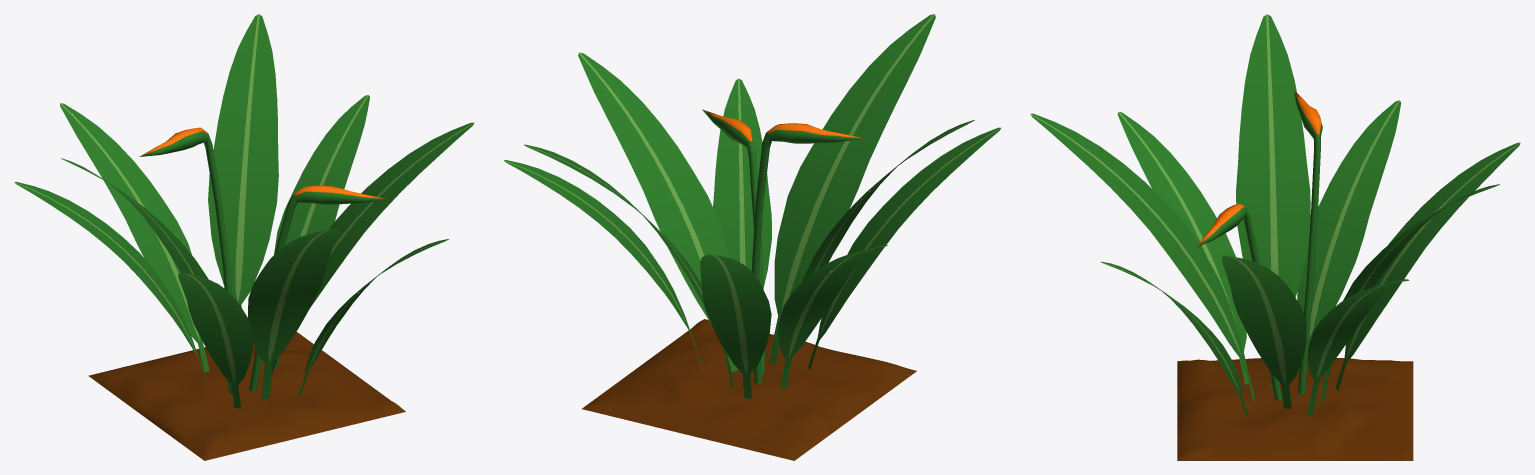
File: bird-of-paradise-p3-leaf.glb
3 views of the same model, side by side, from view 1: azimuth 30°, elevation 25°; view 2: azimuth 150°, elevation 25°; view 3: azimuth 270°, elevation 25° (orthographic). The views are drawn at different scales.
Visible parts, largest first — view 1: 3_nft_out_of_bloom; view 2: 3_nft_out_of_bloom; view 3: 3_nft_out_of_bloom.
Part boxes in pixels (bbox=[...]): 3_nft_out_of_bloom: bbox=[14, 14, 474, 460]; 3_nft_out_of_bloom: bbox=[504, 14, 1001, 460]; 3_nft_out_of_bloom: bbox=[1030, 14, 1520, 460].
Size of the model in its own units: 1.37 by 0.9757 by 1.45.
